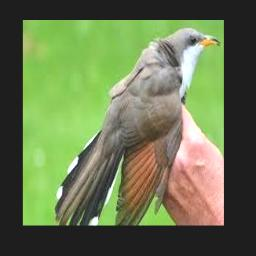Cuckoo: (54, 27, 220, 225)
